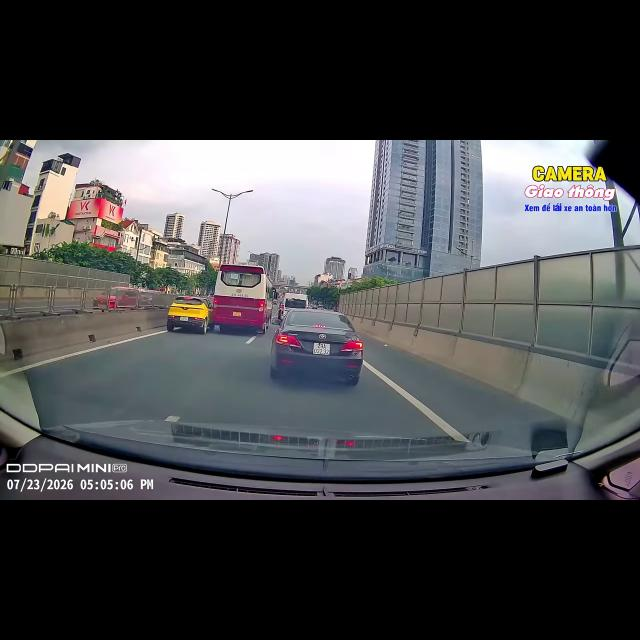bus: (213, 264, 275, 333), (278, 293, 308, 319)
car: (270, 309, 362, 385), (167, 296, 212, 334)
